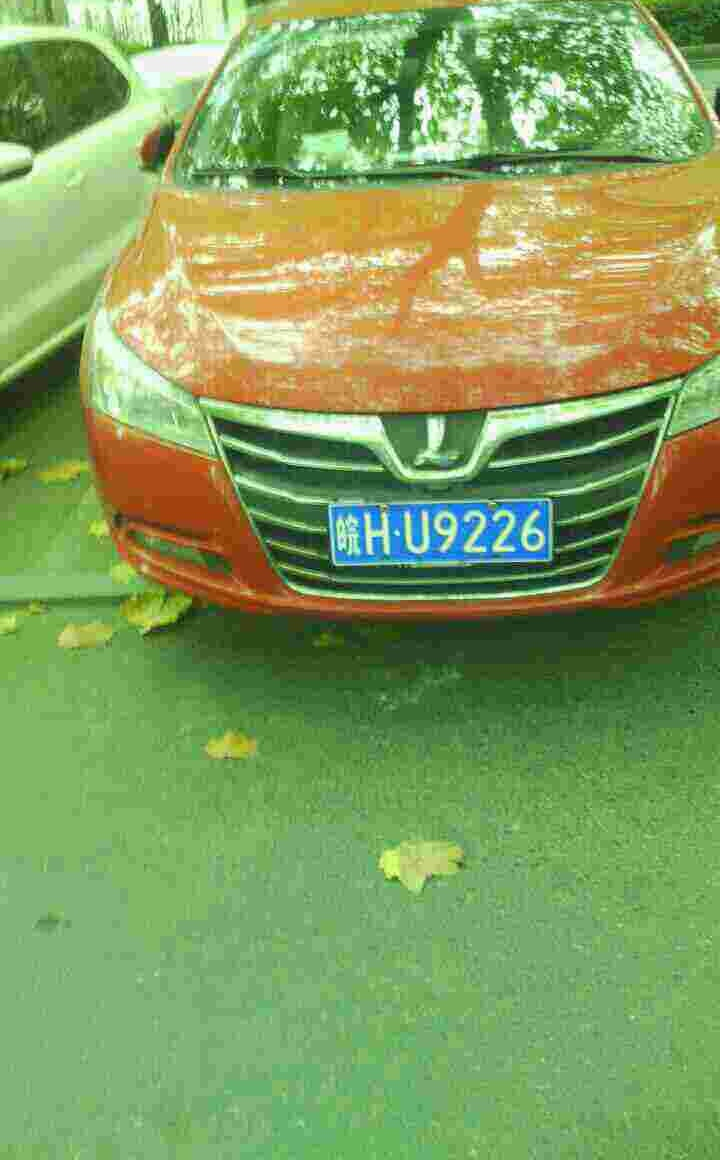license_plate: (333, 500, 551, 571)
